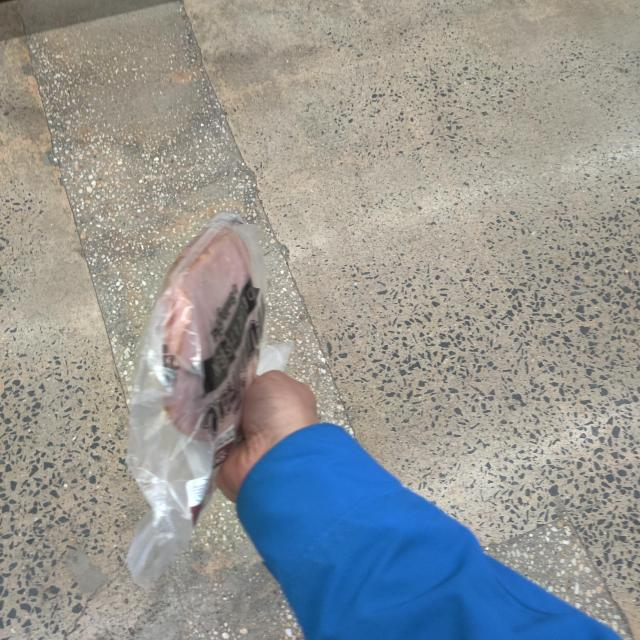Meat: (114, 183, 314, 556)
